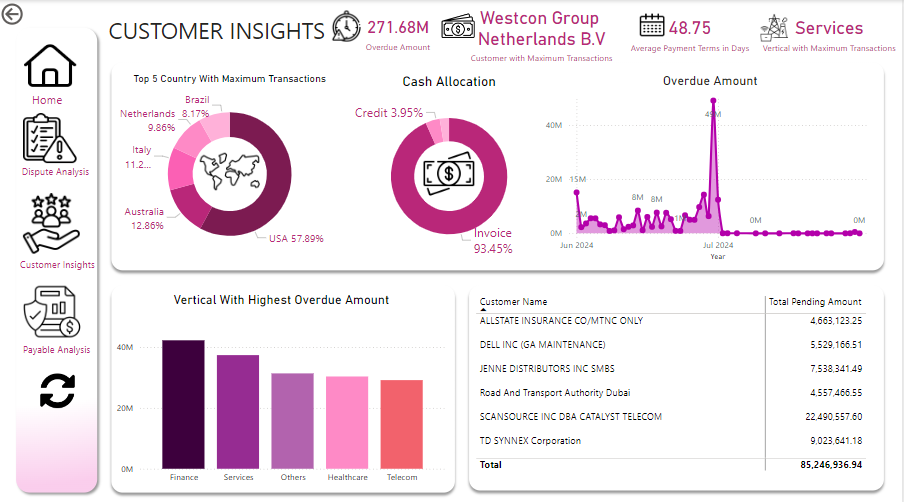

This screenshot's page, from the dashboard's own definition file:
{"tool":"powerbi","page":{"name":"Customer Insights","canvas":[1280,720],"ordinal":2},"visuals":[{"type":"donutChart","title":"Top 5 Country With Maximum Transactions","fields":{"Category":["AR.Country"],"Y":["CountNonNull(AR.Country)"]},"box":[162.9,104.1,330.9,270.4],"z":0},{"type":"donutChart","title":"Cash Allocation","fields":{"Category":["AR.Invoice / Credit / Unallocated Cash"],"Y":["CountNonNull(AR.Invoice / Credit / Unallocated Cash)"]},"box":[493.9,104.1,292.3,270.4],"z":1000},{"type":"tableEx","fields":{"Values":["AR.Customer Name","Sum(AR.REMAINING AMOUNT USD)"]},"box":[671.9,413.2,576.2,268.8],"z":2000},{"type":"actionButton","box":[0,0,100,40],"z":3000},{"type":"clusteredColumnChart","title":"Vertical With Highest Overdue Amount","fields":{"Category":["AR.AvayaHLVertical"],"Y":["Sum(AR.REMAINING AMOUNT USD)"]},"box":[162.9,413.2,477.1,280.5],"z":4000},{"type":"card","fields":{"Values":["Sum(AR.REMAINING AMOUNT USD)"]},"box":[477.6,0,178.6,92.1],"z":5000},{"type":"card","fields":{"Values":["AR.Customer with Max Transactions"]},"box":[665.2,0,211.7,92.4],"z":6000},{"type":"card","fields":{"Values":["AR.AvayaHLVertical with Max Transactions"]},"box":[1075.1,0,204.9,92.4],"z":7000},{"type":"card","fields":{"Values":["Avg(AR.Payment Terms in Days)"]},"box":[885.3,0,189.9,92.1],"z":8000},{"type":"textbox","box":[0,124.3,139.4,37],"z":14000},{"type":"textbox","box":[11.6,230,140.3,50.6],"z":15000},{"type":"textbox","box":[13.4,482.1,141.1,40.3],"z":17000},{"type":"image","box":[37,524.1,94.1,58.8],"z":19000},{"type":"lineChart","title":"Overdue Amount ","fields":{"Y":["Sum(AR.REMAINING AMOUNT USD)"],"Category":["AR.BLINE DATE.Variation.Date Hierarchy.Year","AR.BLINE DATE.Variation.Date Hierarchy.Month","AR.BLINE DATE.Variation.Date Hierarchy.Day"]},"box":[771,104.1,477.1,270.4],"z":20000},{"type":"textbox","box":[151.2,15.1,325.9,62.2],"z":20001},{"type":"image","box":[465.3,10.1,57.1,53.8],"z":20002},{"type":"image","box":[623.2,0,57.1,73.9],"z":20003},{"type":"image","box":[898.7,13.4,57.1,45.4],"z":20004},{"type":"image","box":[1075.1,13.4,48.7,53.8],"z":20005},{"type":"image","box":[275.5,206.6,105.8,95.7],"z":20006},{"type":"image","box":[598,189.8,82.3,112.5],"z":20007},{"type":"textbox","box":[25.2,361.2,117.6,52.1],"z":20011},{"type":"actionButton","box":[37,60.5,73.9,63.8],"z":20012},{"type":"actionButton","box":[35.3,159.6,75.6,70.6],"z":20013},{"type":"actionButton","box":[31.9,273.8,85.7,85.7],"z":20014},{"type":"actionButton","box":[35.3,401.5,82.3,80.6],"z":20015}]}

Visuals, with their boxes on the page's 1280x720 design canvas (x1, y1, x2, y2). These are canvas units, not pixel positions in the 904x502 screenshot, which may show the page scaled, cropped or inside an application window:
"Top 5 Country With Maximum Transactions" donutChart: box(163, 104, 494, 374)
"Cash Allocation" donutChart: box(494, 104, 786, 374)
tableEx - AR.Customer Name x Sum(AR.REMAINING AMOUNT USD): box(672, 413, 1248, 682)
actionButton: box(0, 0, 100, 40)
"Vertical With Highest Overdue Amount" clusteredColumnChart: box(163, 413, 640, 694)
card - Sum(AR.REMAINING AMOUNT USD): box(478, 0, 656, 92)
card - AR.Customer with Max Transactions: box(665, 0, 877, 92)
card - AR.AvayaHLVertical with Max Transactions: box(1075, 0, 1280, 92)
card - Avg(AR.Payment Terms in Days): box(885, 0, 1075, 92)
textbox: box(0, 124, 139, 161)
textbox: box(12, 230, 152, 281)
textbox: box(13, 482, 154, 522)
image: box(37, 524, 131, 583)
"Overdue Amount " lineChart: box(771, 104, 1248, 374)
textbox: box(151, 15, 477, 77)
image: box(465, 10, 522, 64)
image: box(623, 0, 680, 74)
image: box(899, 13, 956, 59)
image: box(1075, 13, 1124, 67)
image: box(276, 207, 381, 302)
image: box(598, 190, 680, 302)
textbox: box(25, 361, 143, 413)
actionButton: box(37, 60, 111, 124)
actionButton: box(35, 160, 111, 230)
actionButton: box(32, 274, 118, 360)
actionButton: box(35, 402, 118, 482)
